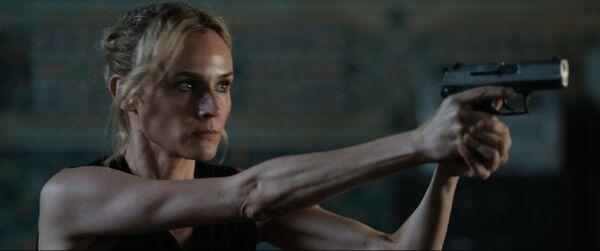Gun: (440, 56, 571, 120)
